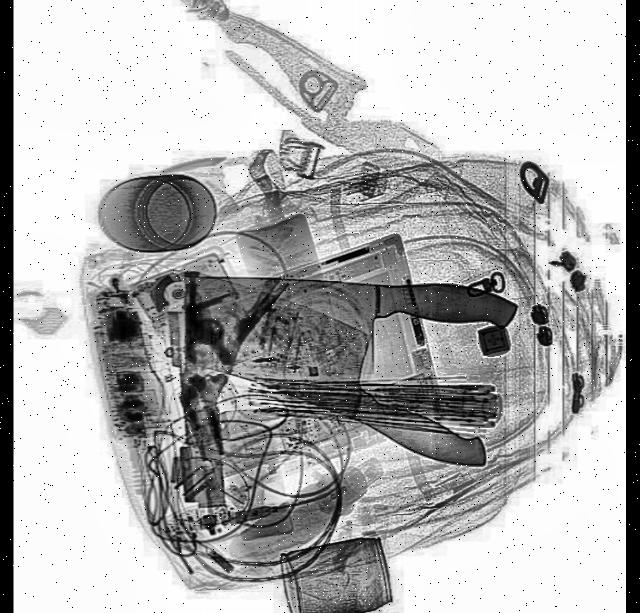Knife: (170, 265, 509, 480), (180, 266, 517, 393)
